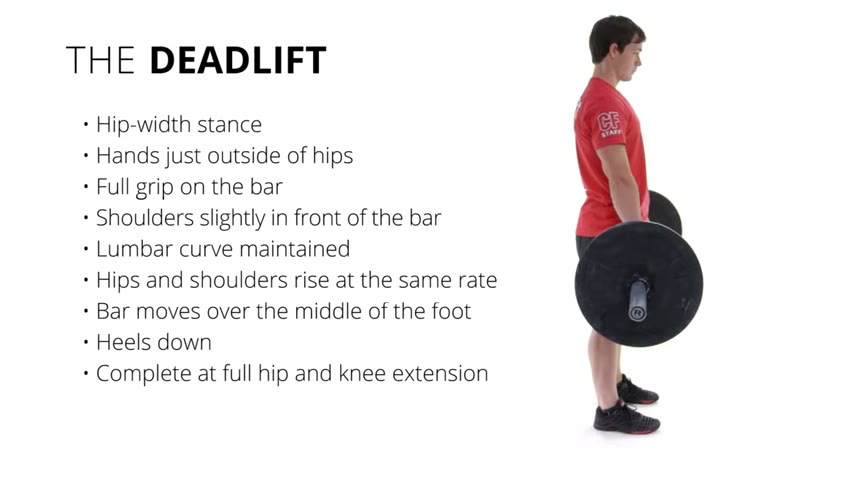barbell_plate_side: (671, 191, 705, 349), (575, 213, 611, 350)
